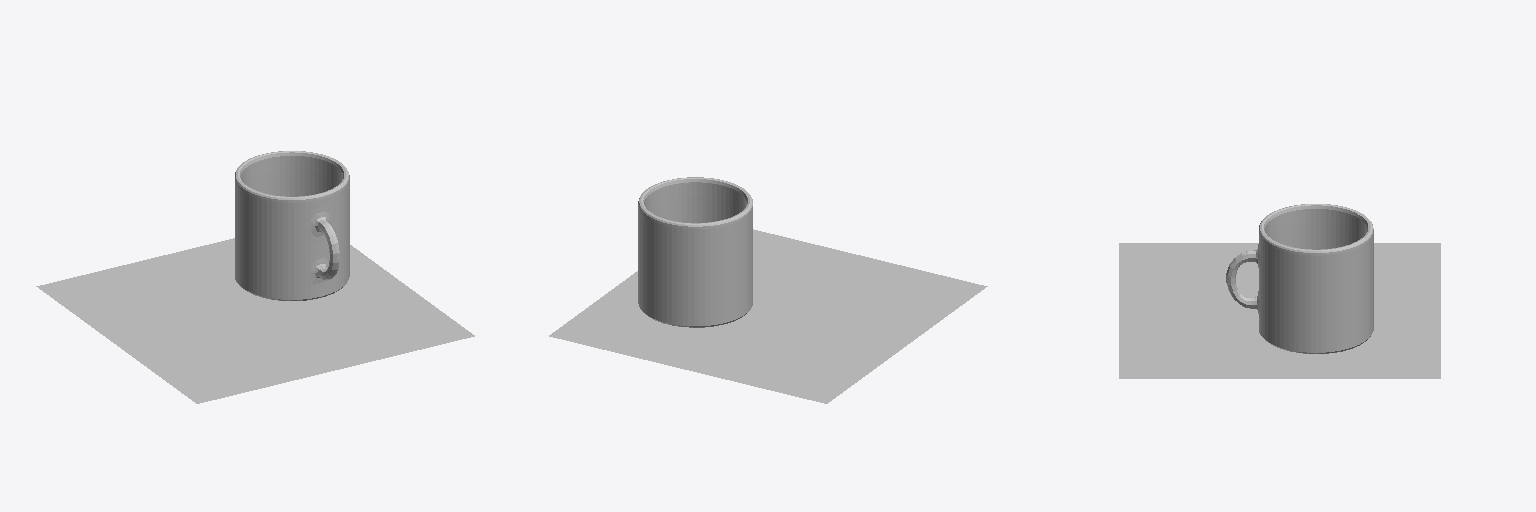
Rendered from glas.obj.
3 renders of one model, left to right at view 1: azimuth 30°, elevation 25°; view 2: azimuth 150°, elevation 25°; view 3: azimuth 270°, elevation 25°, orthographic.
Visible parts, largest first — view 1: Plane, Cylinder; view 2: Plane, Cylinder; view 3: Plane, Cylinder.
Boxes of the visible parts, x1,y1,x2,y2 form: Plane: [36, 238, 474, 403]; Cylinder: [235, 151, 349, 300]; Plane: [549, 229, 987, 403]; Cylinder: [638, 177, 752, 327]; Plane: [1119, 243, 1440, 378]; Cylinder: [1226, 204, 1373, 353].
Bounding box in the file's own units: 5.55 × 2.11 × 5.55.